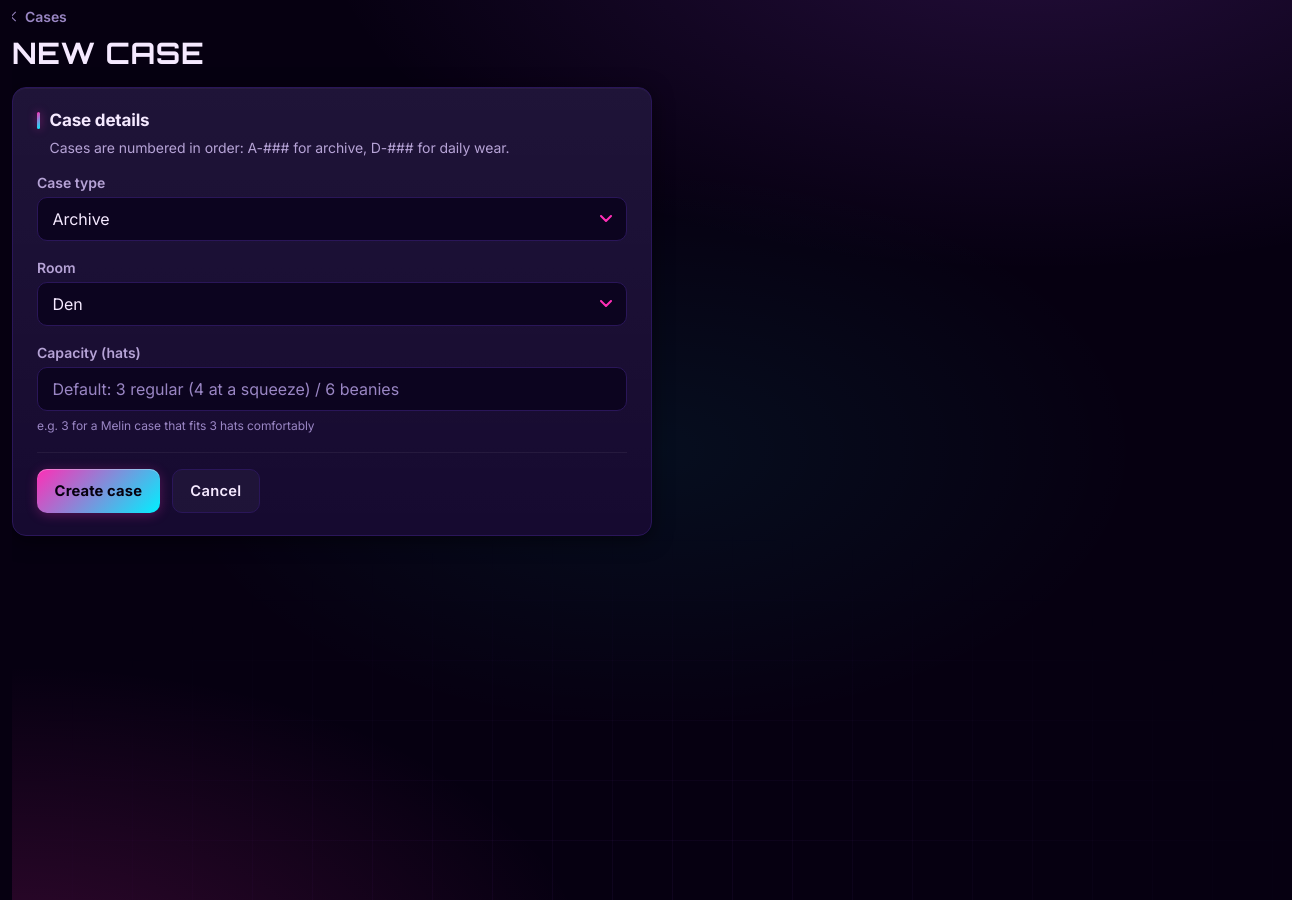
it: NewCasePage › keeps a failed create on the form and says why
The width and height of the screenshot is (1292, 900).
Step 1. Click the button "Create case" → (98, 491), box [37,469,160,513]
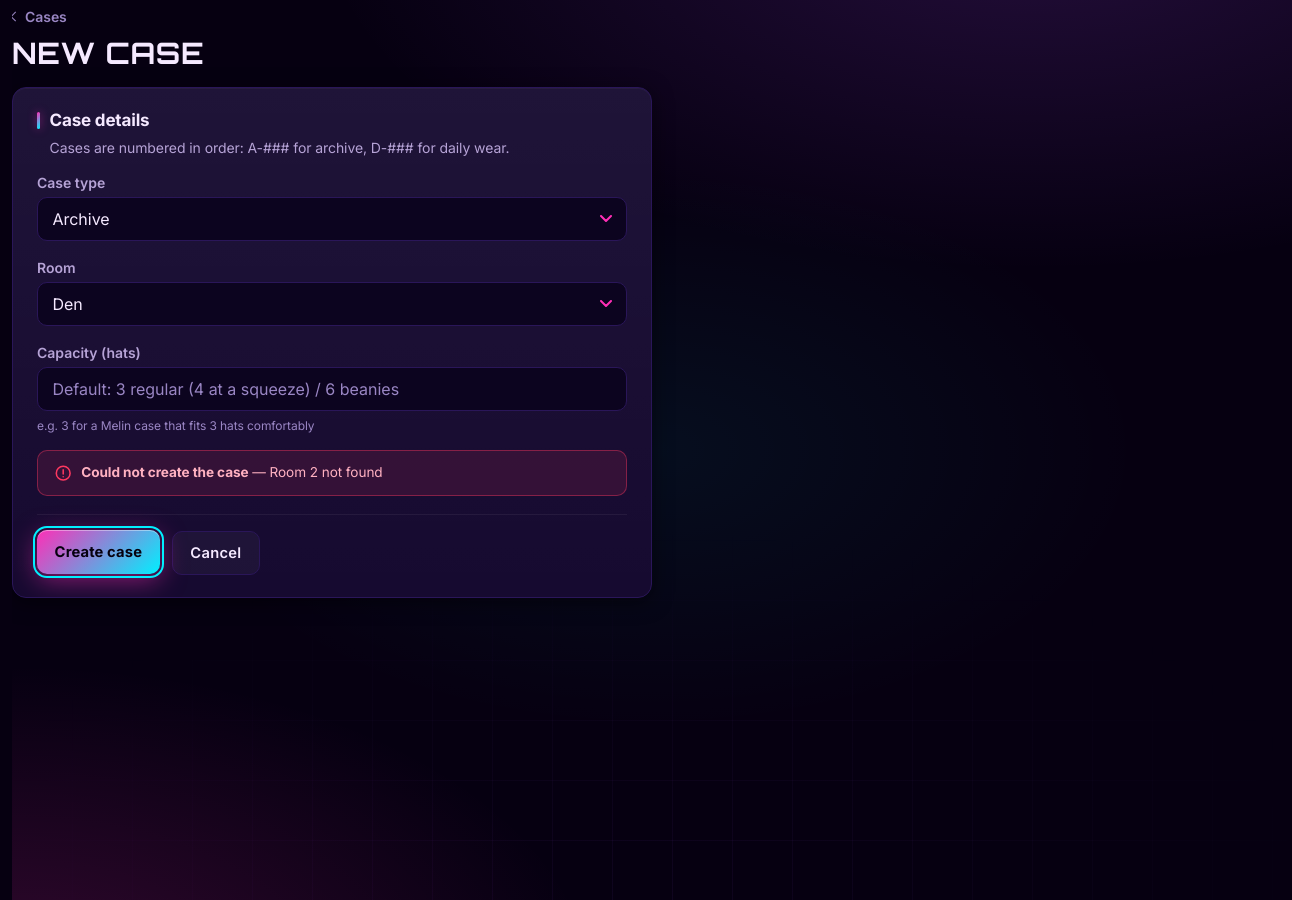
Expected: the heading "New case" is shown, [12,34,204,71]
Result: the message reads "Could not create the case — Room 2 not found" at [37,450,627,496]
